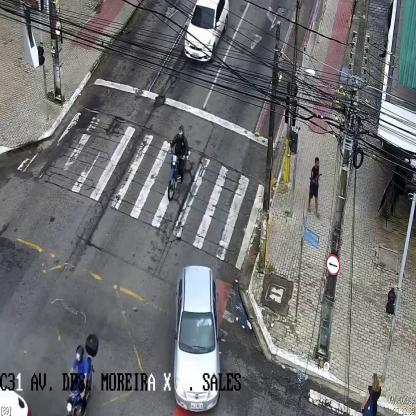car: (173, 264, 220, 410), (185, 0, 229, 60)
motorbike: (63, 346, 92, 416), (167, 125, 191, 200)
person: (306, 157, 322, 219)
